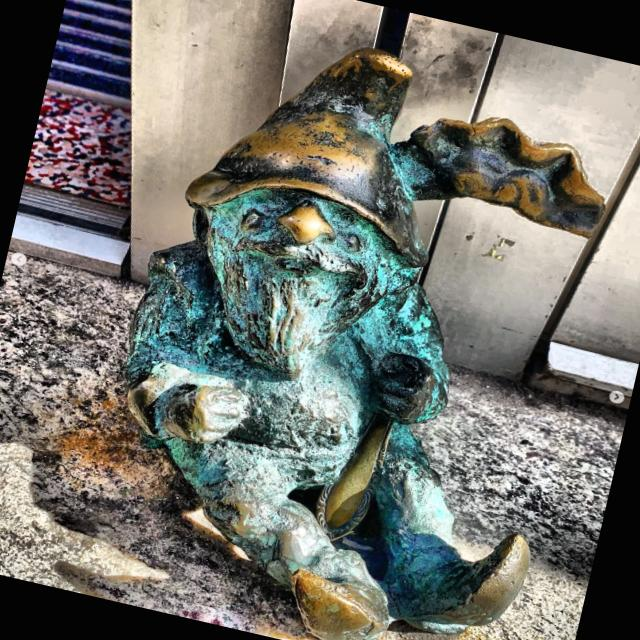Pieroznik: (123, 48, 601, 640)
